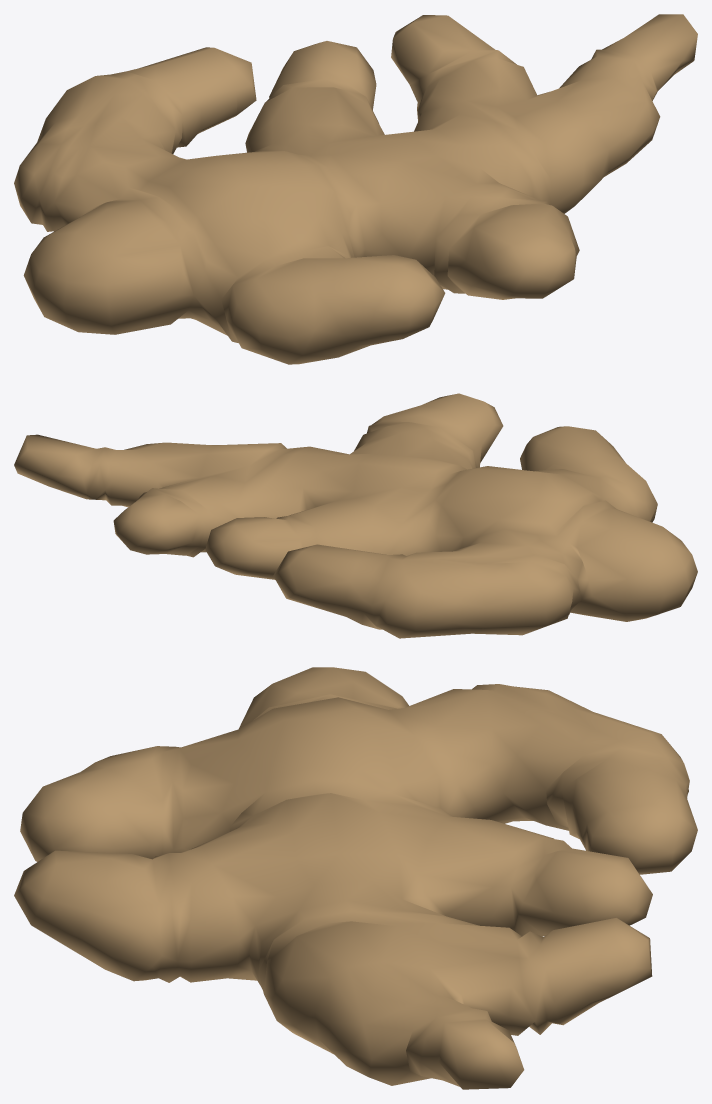
File: NEW_RECOVERY_061_LOD2.glb
3 renders of one model, top to bottom at view 1: azimuth 30°, elevation 25°; view 2: azimuth 150°, elevation 25°; view 3: azimuth 270°, elevation 25°, orthographic. The views are drawn at different scales.
Visible parts, largest first — view 1: Ginger_whole_solid; view 2: Ginger_whole_solid; view 3: Ginger_whole_solid.
Boxes of the visible parts, x1,y1,x2,y2 form: Ginger_whole_solid: (14, 14, 697, 364); Ginger_whole_solid: (14, 393, 697, 638); Ginger_whole_solid: (14, 667, 697, 1089).
Bounding box in the file's own units: 0.2168 × 0.0398 × 0.1534.
